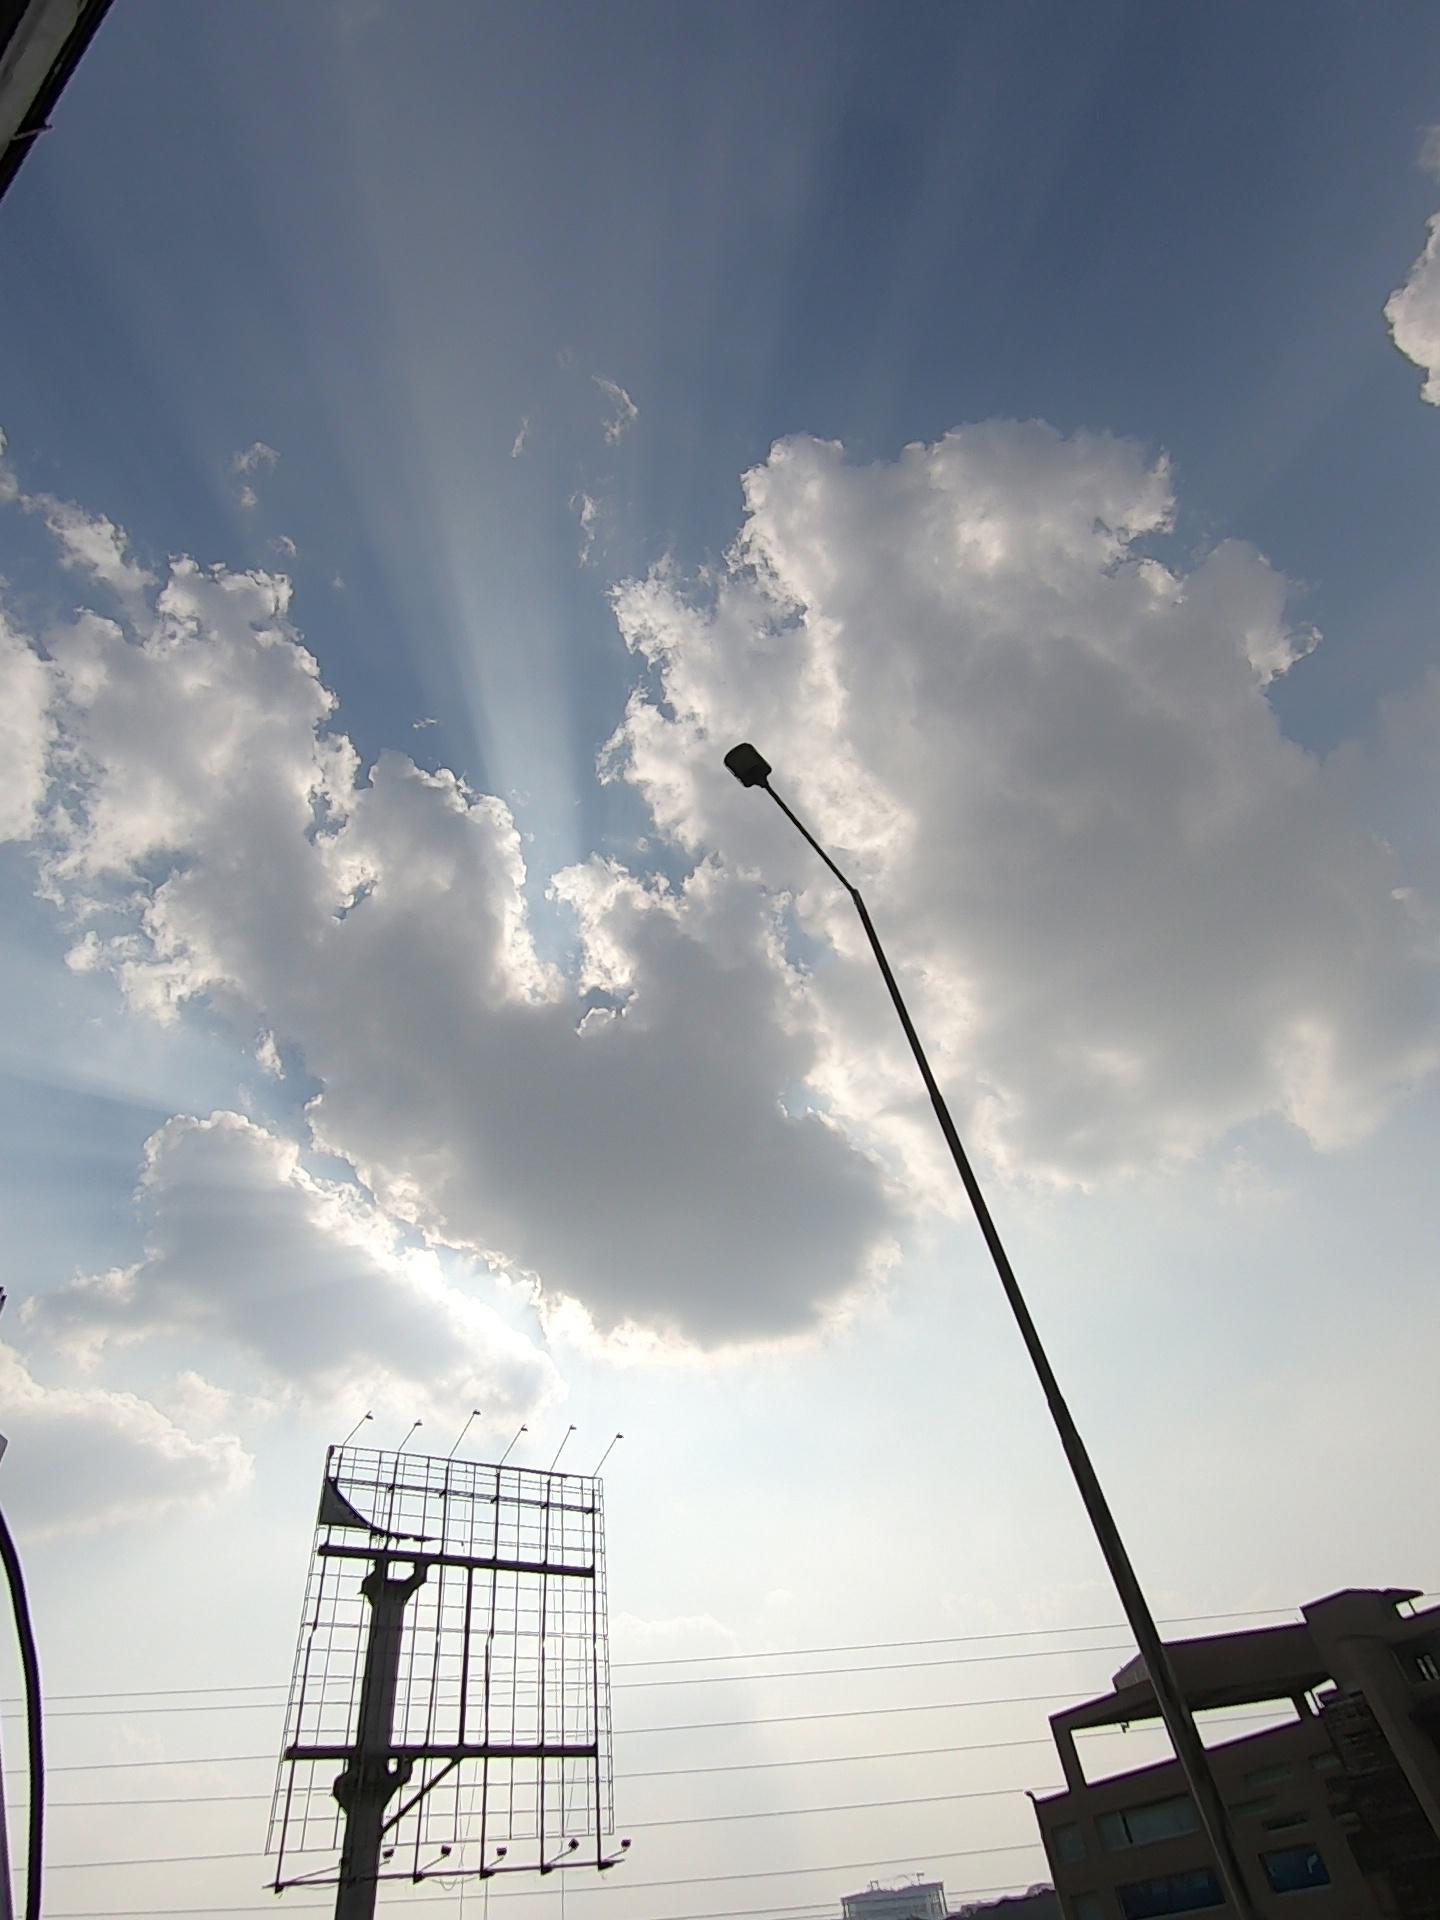off: (655, 676, 1012, 1060)
